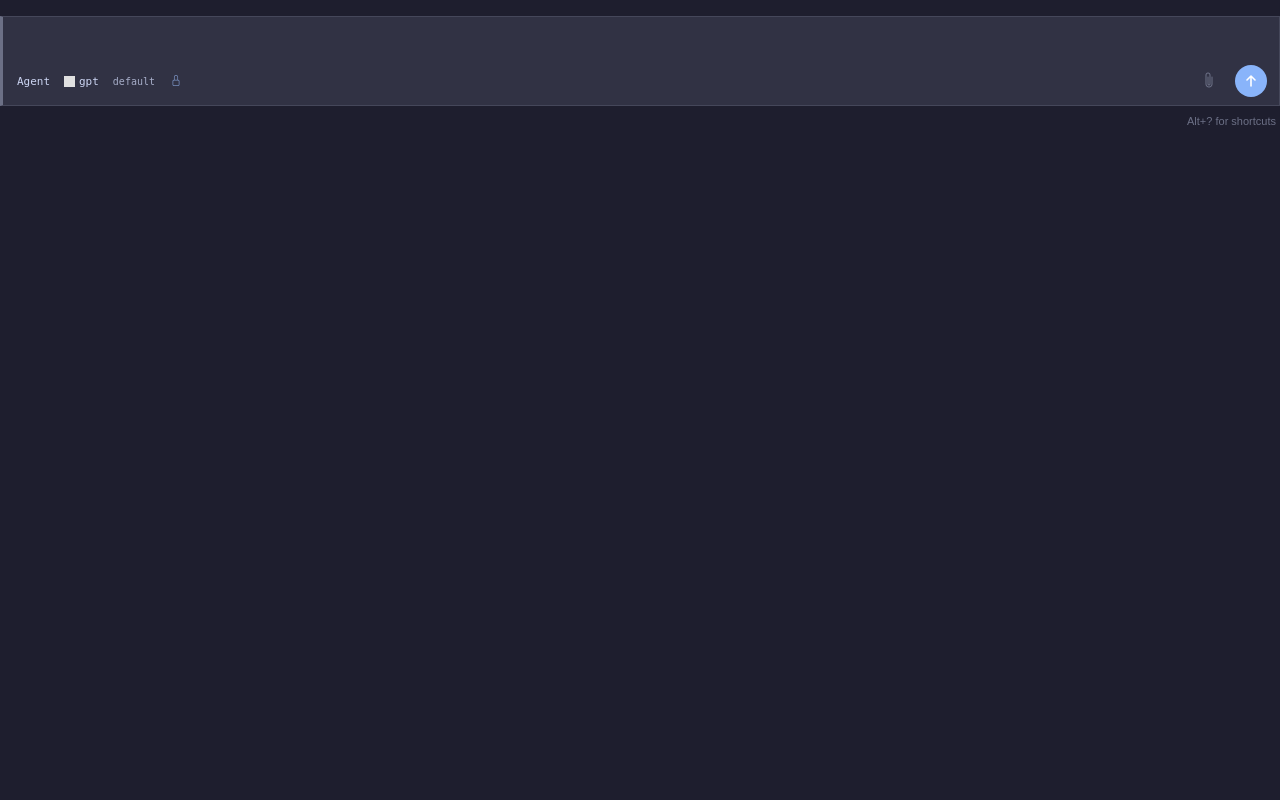
Test: returns focus after selecting from the permission menu
Click the button named "Permission mode: Default".
click(176, 81)  # box [167, 72, 185, 90]
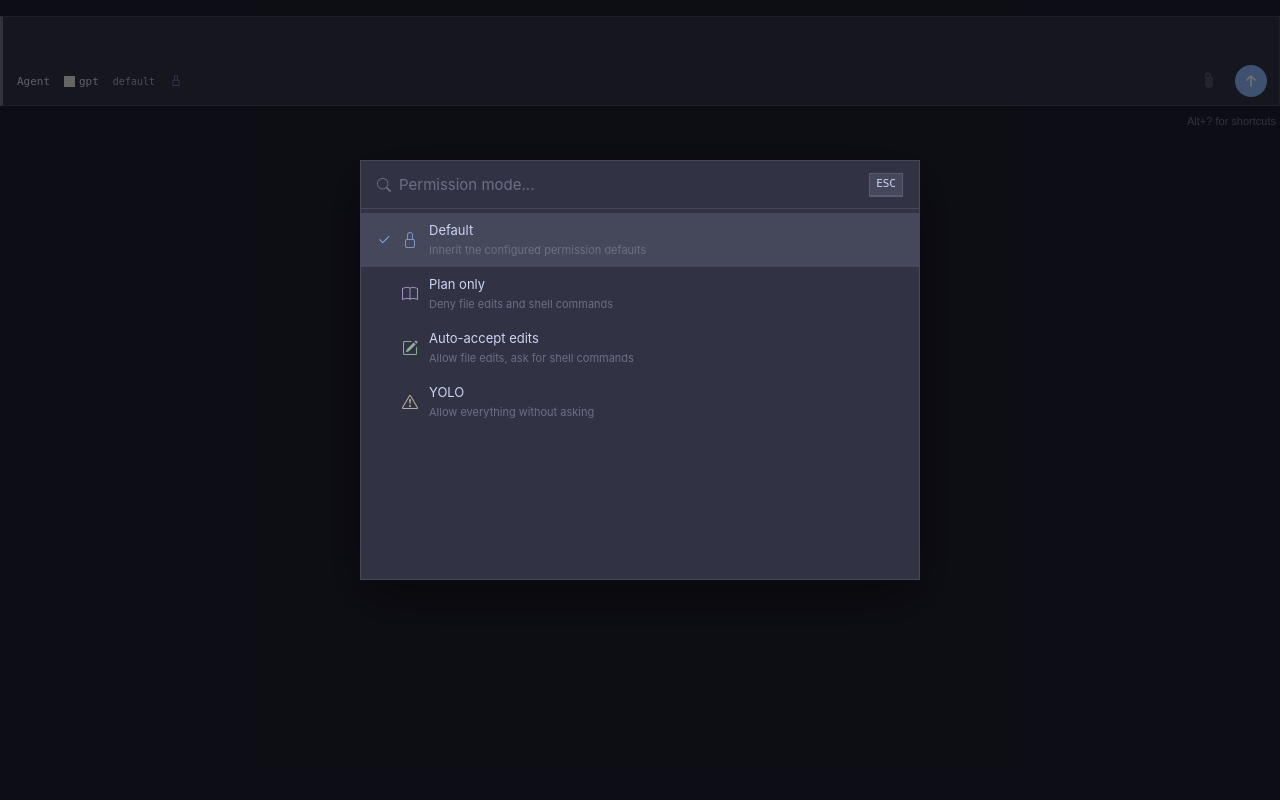
Type "plan" into the dropdown.
click(630, 184); type("plan")  # box [399, 175, 861, 194]
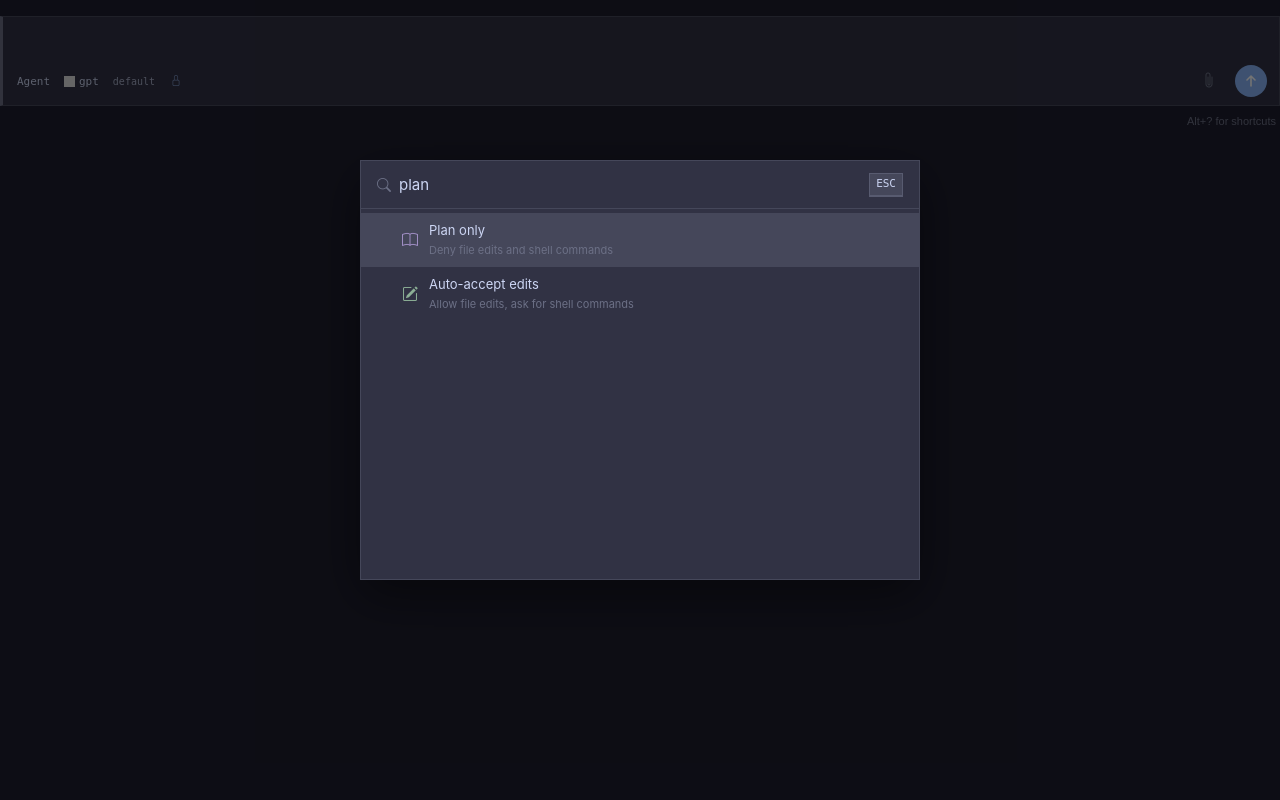
Expected: the option "Plan only Deny file edits and shell commands" is shown, [361, 212, 919, 266]
Press Enter
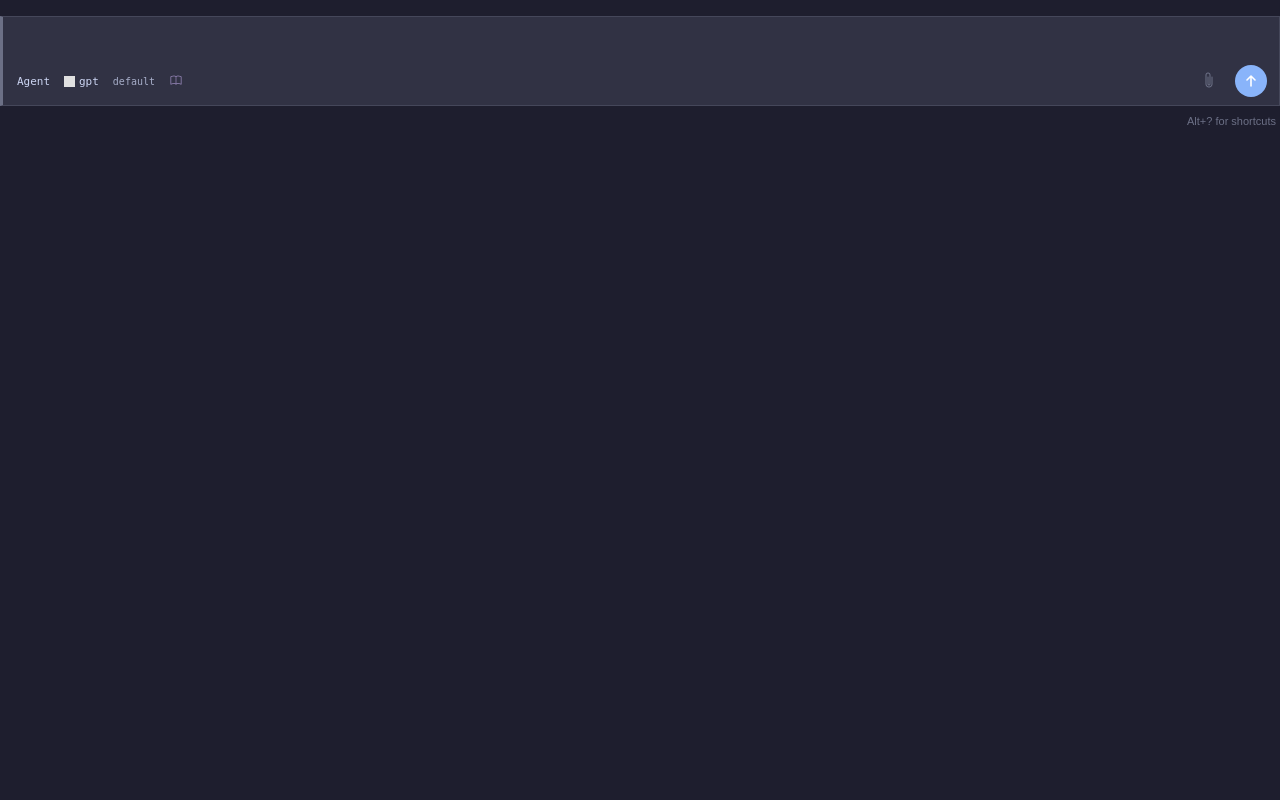
Expected: the text box is empty, [3, 17, 1279, 61]
Expected: the dialog is gone
Type keys "Next prompt"
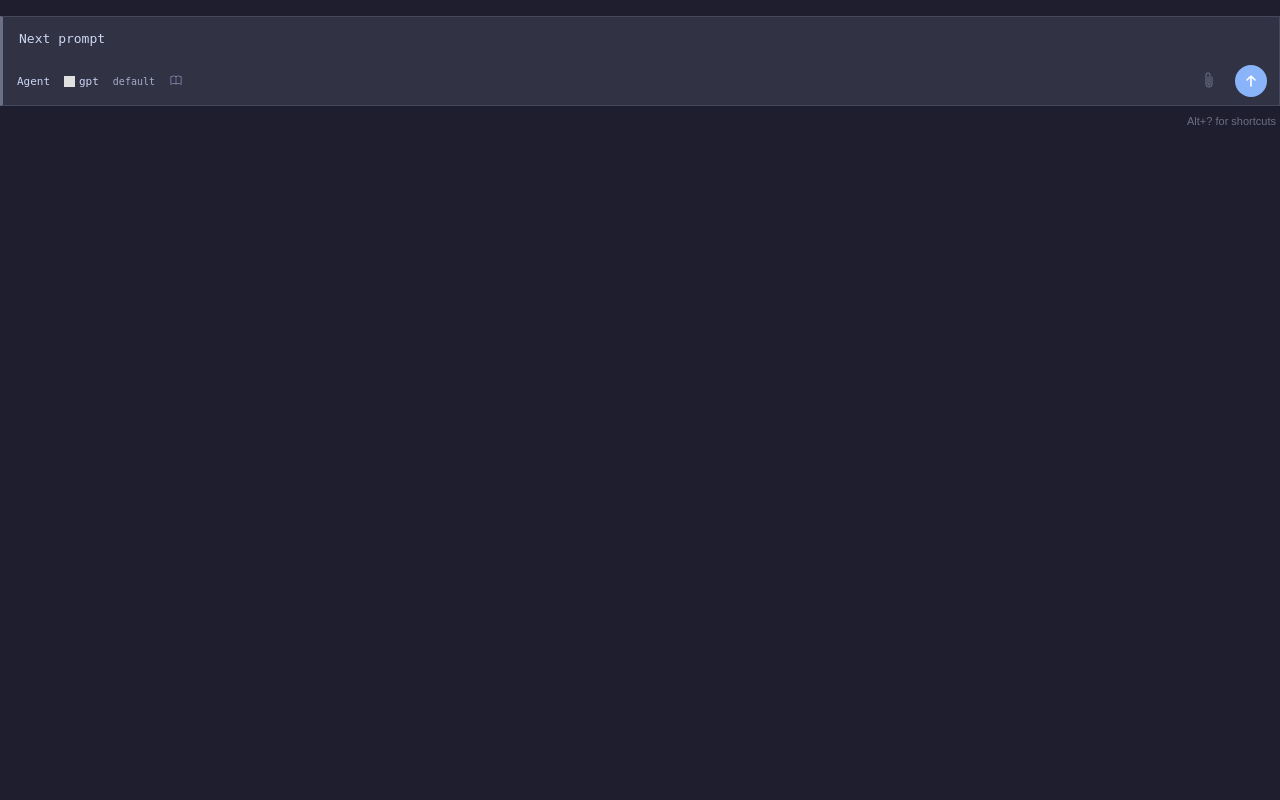
Expected: the text box holds "Next prompt", [3, 17, 1279, 61]
